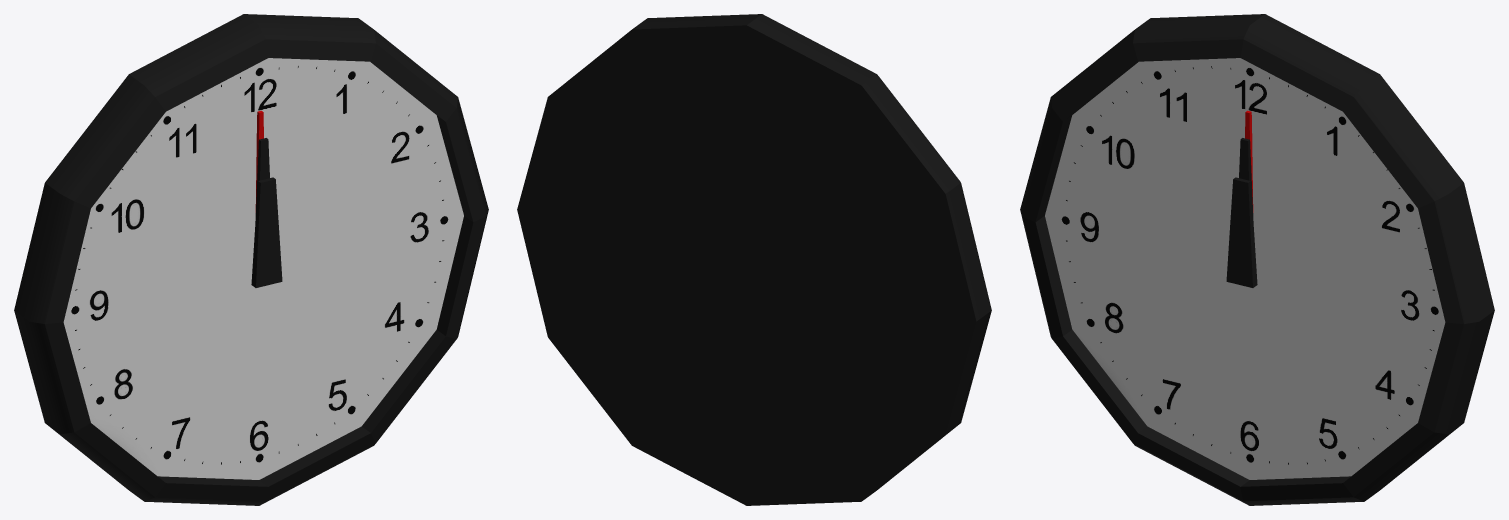
Rendered from clock.fbx.
The picture shows the model from 3 angles, left to right: view 1: azimuth 30°, elevation 25°; view 2: azimuth 150°, elevation 25°; view 3: azimuth 330°, elevation 25°; orthographic projection.
Parts seen in each view (by area): view 1: pCylinder1, pCube1, pCube2; view 2: pCylinder1; view 3: pCylinder1, pCube1, pCube2.
Boxes of the visible parts, <box> form: pCylinder1: <box>14,14,488,505</box>; pCube1: <box>251,177,282,287</box>; pCube2: <box>255,138,269,221</box>; pCylinder1: <box>517,14,991,505</box>; pCylinder1: <box>1020,14,1494,505</box>; pCube1: <box>1226,177,1257,287</box>; pCube2: <box>1239,138,1253,221</box>.
Size of the model in its own units: 0.656 by 0.656 by 0.063.
3 materials, 1 textured.
